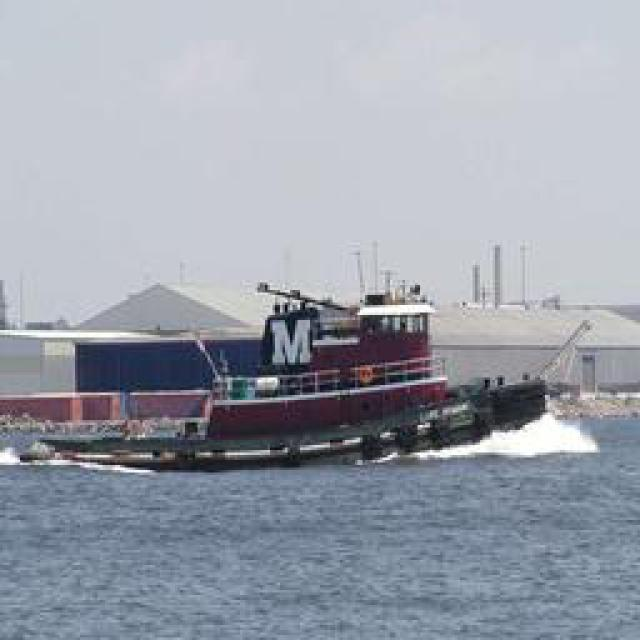Ship: (21, 292, 564, 475)
